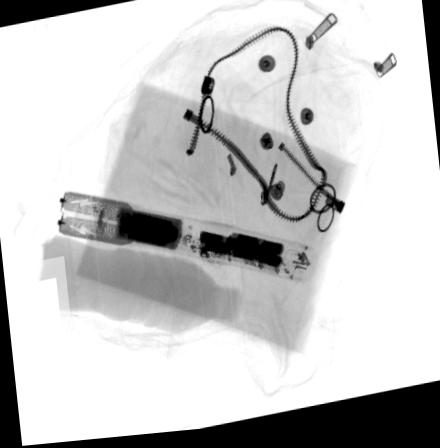Baton: (53, 189, 320, 289)
